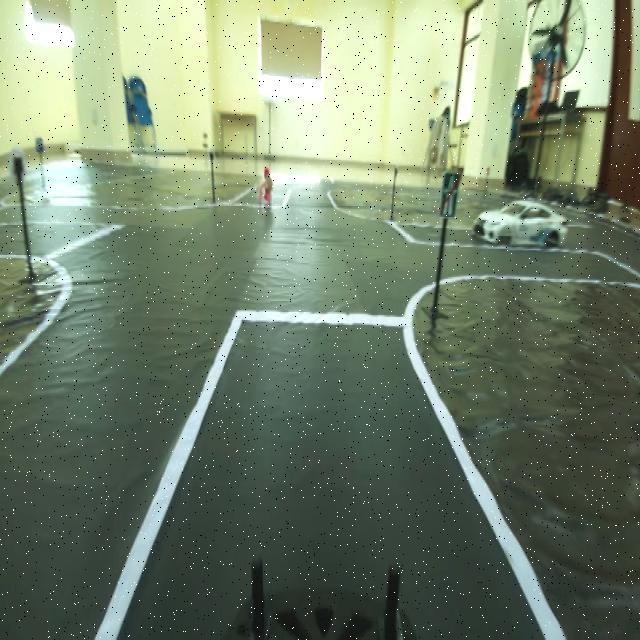highway_exit: (438, 162, 460, 225)
